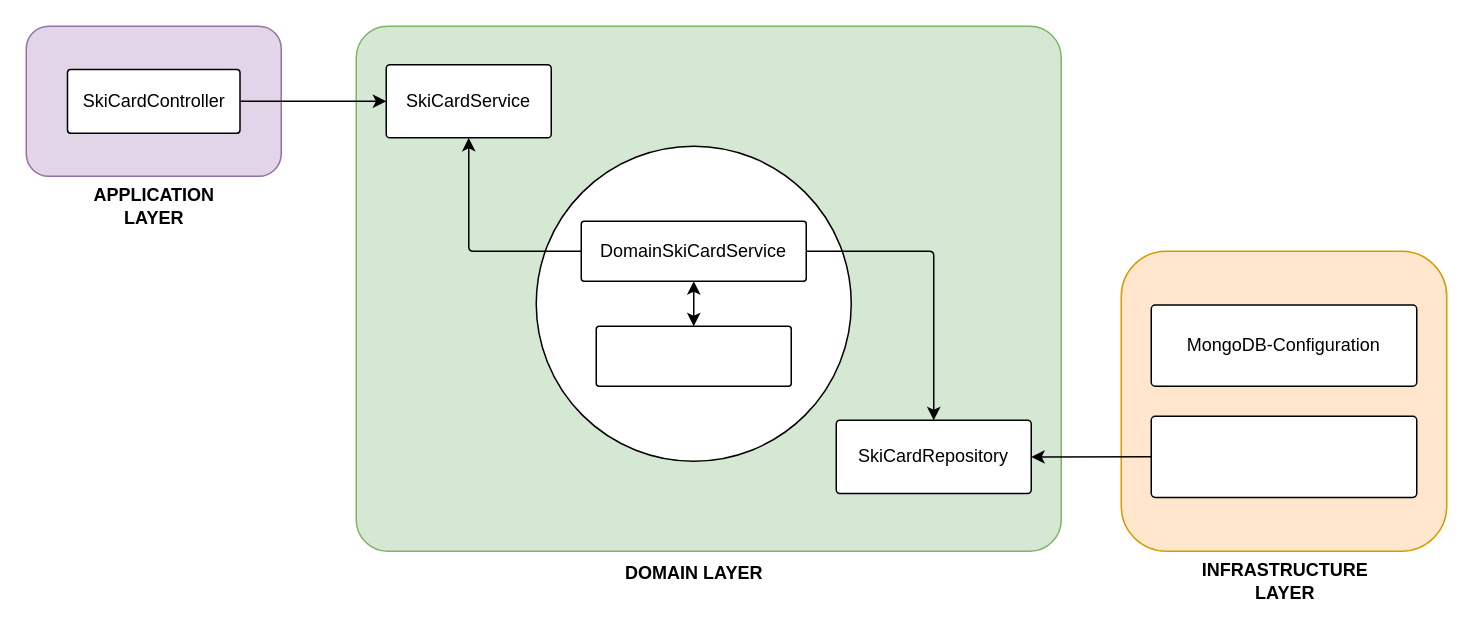
The diagram is 1473 pixels wide and 638 high, and some of its shapes have lost their labels. The centre of each missing label's shape, as x and y in pixels:
MongoDB-SkiCardRepository: (x=1283, y=456)
SkiCard: (x=693, y=355)
